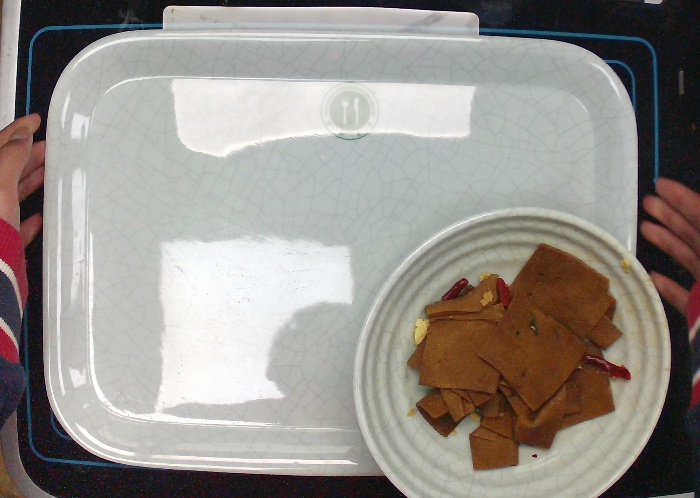JYsf-Da_Tang_Wan: (351, 203, 680, 497)
